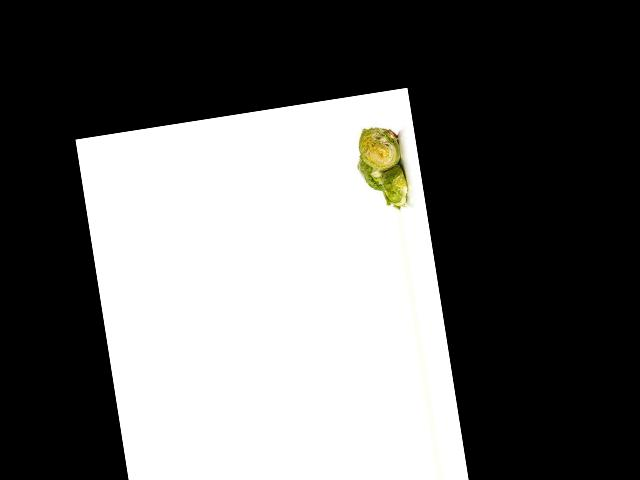lettuce: (354, 147, 390, 197)
